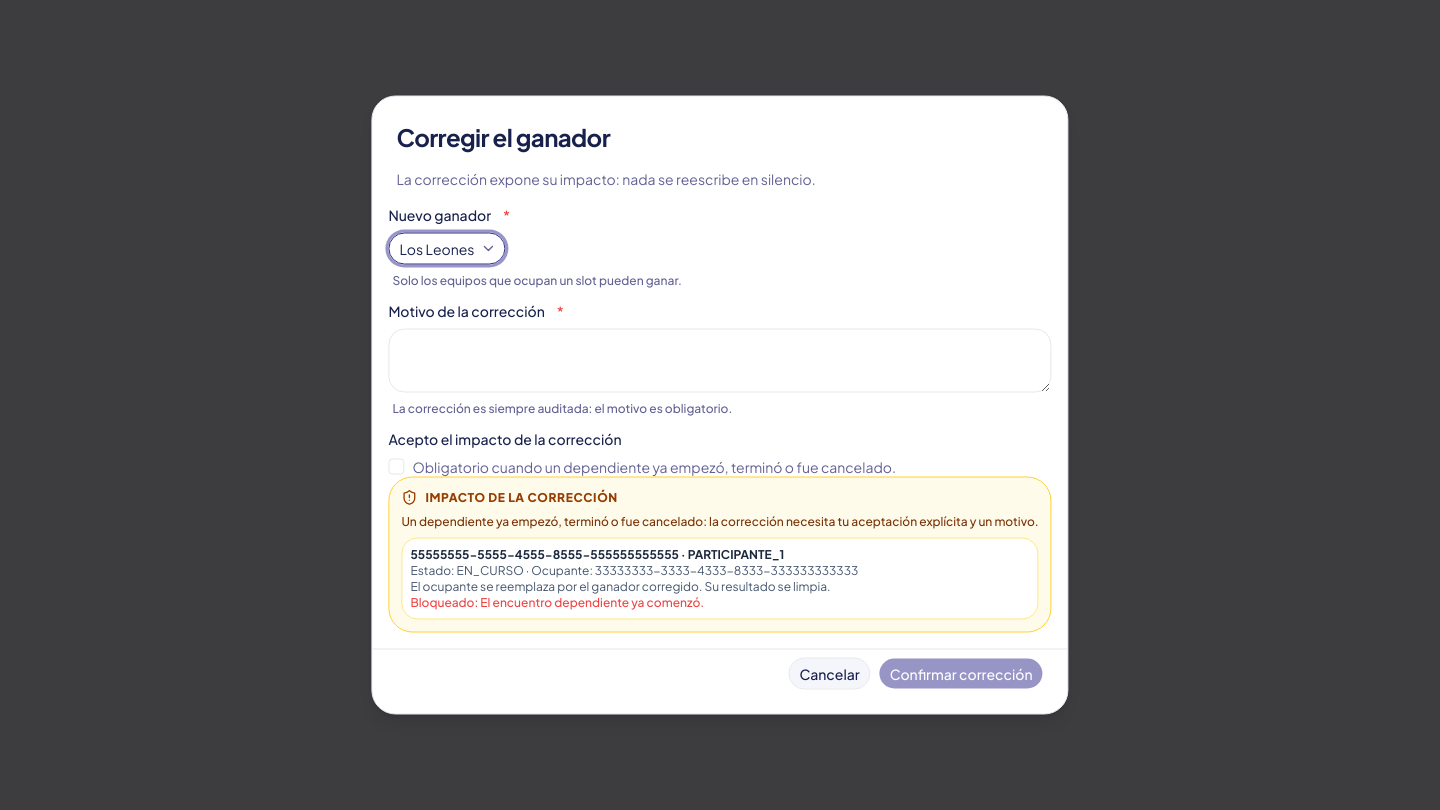
Scenario: CompetenciaCorreccionDialog › EXIGE la aceptación explícita del impacto
The image size is (1440, 810).
Expected: the element labelled "Impacto de la corrección" is shown, [388, 476, 1052, 632]
Expected: the button "Confirmar corrección" is disabled, [879, 658, 1044, 690]
Click the checkbox named "Acepto el impacto" at (396, 466), box [388, 458, 404, 474]
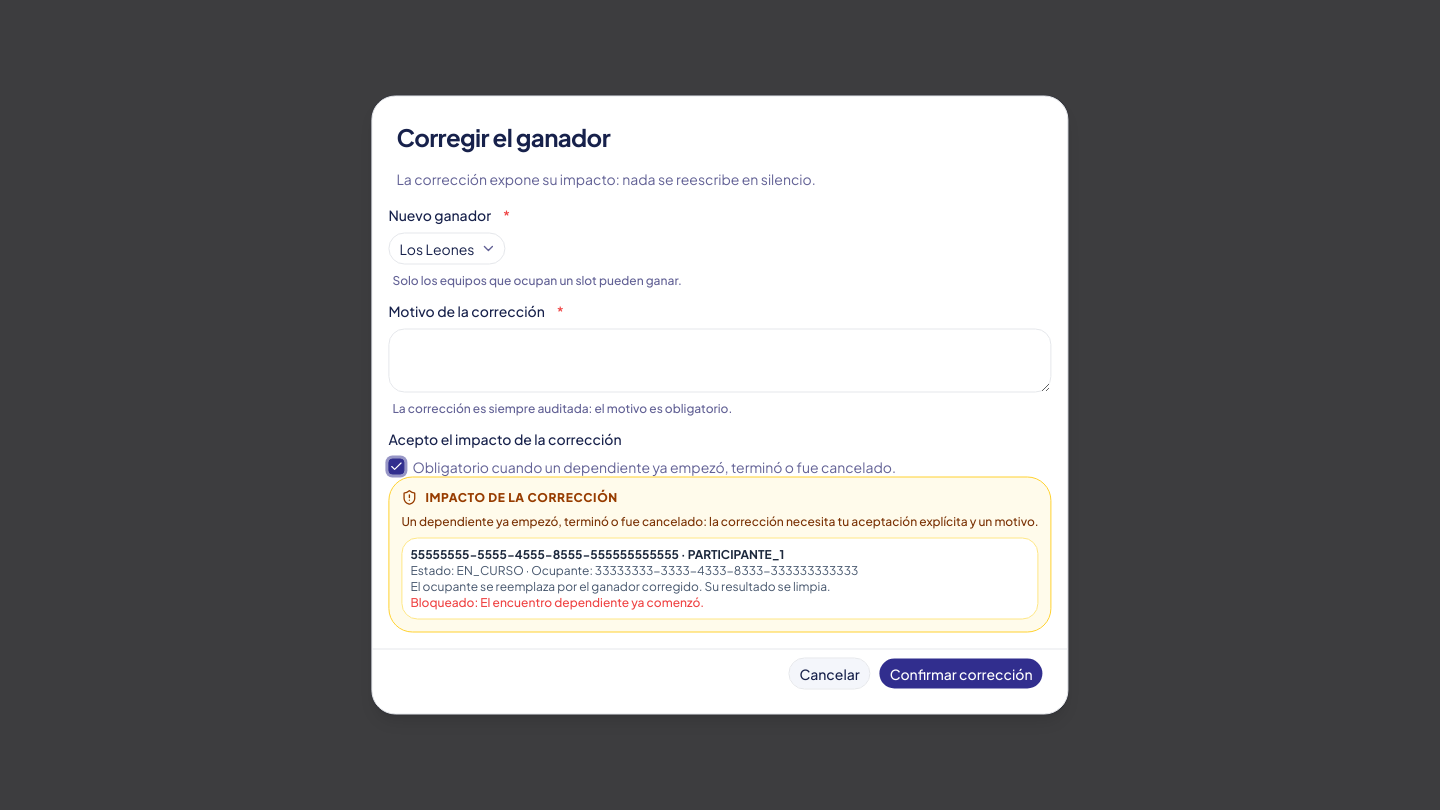
Result: the button "Confirmar corrección" is enabled at [879, 658, 1044, 690]
